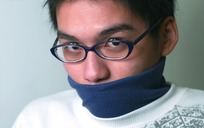face_mask: (57, 1, 155, 111)
